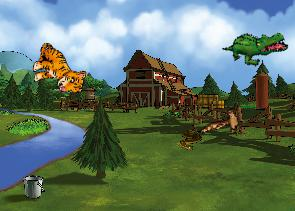crocodile: (221, 16, 290, 77)
eagle: (197, 93, 253, 152)
tiger: (28, 41, 90, 96)
